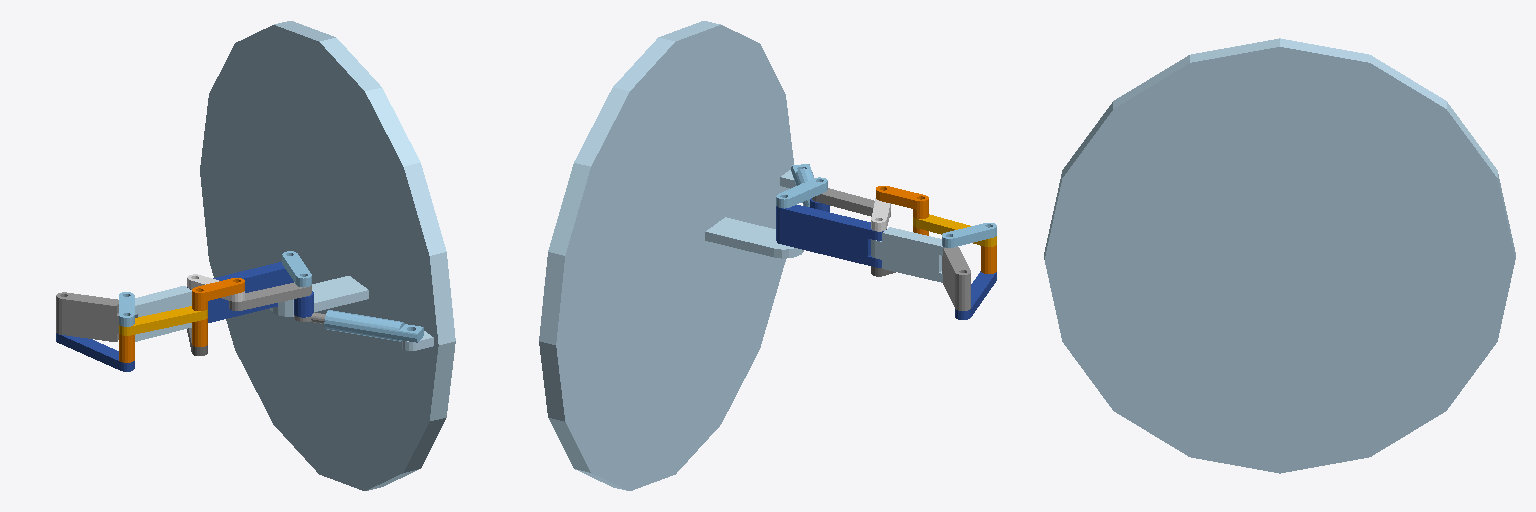
URDF robot description (assembly_2):
<!--URDF generated by ONSHAPE BY PTC INC, 1.212-->
<robot name="assembly_2">
    <link name="Part 1">
        <inertial>
            <mass value="7.2074e-07" />
            <origin xyz="3.46772e-19 0.0015875 0.0134123" rpy="0 -0 0" />
            <inertia ixx="5.7618e-11" ixy="0" ixz="0" iyy="5.79027e-11" iyz="0" izz="4.26698e-12" />
        </inertial>
        <visual>
            <origin xyz="2.1684e-19 0.0015875 -0.003175" rpy="0 -0 0" />
            <geometry>
                <mesh filename="meshes/75.stl" scale="1 1 1" />
            </geometry>
            <material name="0.615686_0.811765_0.929412_0.000000_0.000000">
                <texture />
                <color rgba="0.615686 0.811765 0.929412 1" />
            </material>
        </visual>
    </link>
    <link name="Part 10">
        <inertial>
            <mass value="1.37134e-06" />
            <origin xyz="-0.0113644 -3.46945e-18 -0.003175" rpy="0 -0 0" />
            <inertia ixx="2.02956e-11" ixy="0" ixz="0" iyy="7.4567e-11" iyz="0" izz="6.02994e-11" />
        </inertial>
        <visual>
            <origin xyz="0.0625709 0.0161285 -0.009525" rpy="0 -0 0" />
            <geometry>
                <mesh filename="meshes/114.stl" scale="1 1 1" />
            </geometry>
            <material name="0.647059_0.647059_0.647059_0.000000_0.000000">
                <texture />
                <color rgba="0.647059 0.647059 0.647059 1" />
            </material>
        </visual>
    </link>
    <link name="Part 11">
        <inertial>
            <mass value="5.01352e-07" />
            <origin xyz="0.0127843 0.00693573 0.0015875" rpy="0 -0 0" />
            <inertia ixx="1.08214e-11" ixy="0" ixz="0" iyy="3.31197e-11" iyz="0" izz="4.30987e-11" />
        </inertial>
        <visual>
            <origin xyz="0.0836005 0.0161285 0" rpy="0 -0 0" />
            <geometry>
                <mesh filename="meshes/118.stl" scale="1 1 1" />
            </geometry>
            <material name="0.231373_0.380392_0.705882_0.000000_0.000000">
                <texture />
                <color rgba="0.231373 0.380392 0.705882 1" />
            </material>
        </visual>
    </link>
    <link name="Part 13">
        <inertial>
            <mass value="0.000117271" />
            <origin xyz="-0.00339204 0.000372157 -2.03931e-06" rpy="0 -0 0" />
            <inertia ixx="3.37885e-07" ixy="0" ixz="0" iyy="1.69104e-07" iyz="0" izz="1.70696e-07" />
        </inertial>
        <visual>
            <origin xyz="-0.0297178 0.0415285 -0.0015875" rpy="0 -0 0" />
            <geometry>
                <mesh filename="meshes/67.stl" scale="1 1 1" />
            </geometry>
            <material name="0.768627_0.886275_0.952941_0.000000_0.000000">
                <texture />
                <color rgba="0.768627 0.886275 0.952941 1" />
            </material>
        </visual>
    </link>
    <link name="Part 14">
        <inertial>
            <mass value="1.44792e-07" />
            <origin xyz="-2.08167e-17 0 -0.0047625" rpy="0 -0 0" />
            <inertia ixx="1.38661e-12" ixy="0" ixz="0" iyy="1.38661e-12" iyz="0" izz="5.83836e-13" />
        </inertial>
        <visual>
            <origin xyz="0.0320173 0.000641214 0" rpy="0 -0 0" />
            <geometry>
                <mesh filename="meshes/59.stl" scale="1 1 1" />
            </geometry>
            <material name="0.972549_0.529412_0.003922_0.000000_0.000000">
                <texture />
                <color rgba="0.972549 0.529412 0.00392157 1" />
            </material>
        </visual>
    </link>
    <link name="Part 14_1">
        <inertial>
            <mass value="1.44792e-07" />
            <origin xyz="-2.08167e-17 0 0.0047625" rpy="0 -0 0" />
            <inertia ixx="1.38661e-12" ixy="0" ixz="0" iyy="1.38661e-12" iyz="0" izz="5.83836e-13" />
        </inertial>
        <visual>
            <origin xyz="0.0320173 0.000641214 0.009525" rpy="0 -0 0" />
            <geometry>
                <mesh filename="meshes/59.stl" scale="1 1 1" />
            </geometry>
            <material name="0.972549_0.529412_0.003922_0.000000_0.000000">
                <texture />
                <color rgba="0.972549 0.529412 0.00392157 1" />
            </material>
        </visual>
    </link>
    <link name="Part 1_1">
        <inertial>
            <mass value="2.94369e-07" />
            <origin xyz="0.00101609 0.00806424 -0.0015875" rpy="0 -0 0" />
            <inertia ixx="9.23311e-12" ixy="0" ixz="0" iyy="1.03422e-12" iyz="0" izz="9.77276e-12" />
        </inertial>
        <visual>
            <origin xyz="0.00203219 0.0161285 -0.003175" rpy="0 -0 0" />
            <geometry>
                <mesh filename="meshes/110.stl" scale="1 1 1" />
            </geometry>
            <material name="0.615686_0.811765_0.929412_0.000000_0.000000">
                <texture />
                <color rgba="0.615686 0.811765 0.929412 1" />
            </material>
        </visual>
    </link>
    <link name="Part 2">
        <inertial>
            <mass value="2.39969e-07" />
            <origin xyz="2.2187e-18 -2.46996e-20 0.0152573" rpy="0 -0 0" />
            <inertia ixx="1.91942e-11" ixy="0" ixz="0" iyy="1.93075e-11" iyz="0" izz="3.83009e-13" />
        </inertial>
        <visual>
            <origin xyz="0 -1.94413e-19 -0.03175" rpy="0 -0 0" />
            <geometry>
                <mesh filename="meshes/91.stl" scale="1 1 1" />
            </geometry>
            <material name="0.647059_0.647059_0.647059_0.000000_0.000000">
                <texture />
                <color rgba="0.647059 0.647059 0.647059 1" />
            </material>
        </visual>
    </link>
    <link name="Part 2_1">
        <inertial>
            <mass value="4.21116e-07" />
            <origin xyz="0.0109792 0.00498325 0.0015875" rpy="0 -0 0" />
            <inertia ixx="5.4424e-12" ixy="0" ixz="0" iyy="2.14811e-11" iyz="0" izz="2.6216e-11" />
        </inertial>
        <visual>
            <origin xyz="0.0219584 0.0099665 0" rpy="0 -0 0" />
            <geometry>
                <mesh filename="meshes/106.stl" scale="1 1 1" />
            </geometry>
            <material name="0.647059_0.647059_0.647059_0.000000_0.000000">
                <texture />
                <color rgba="0.647059 0.647059 0.647059 1" />
            </material>
        </visual>
    </link>
    <link name="Part 3">
        <inertial>
            <mass value="2.26781e-06" />
            <origin xyz="-0.0165991 2.08167e-17 -0.00635" rpy="0 -0 0" />
            <inertia ixx="3.65735e-11" ixy="0" ixz="0" iyy="2.74421e-10" iyz="0" izz="2.47732e-10" />
        </inertial>
        <visual>
            <origin xyz="0.00203219 0.0161285 -0.0127" rpy="0 -0 0" />
            <geometry>
                <mesh filename="meshes/79.stl" scale="1 1 1" />
            </geometry>
            <material name="0.231373_0.380392_0.705882_0.000000_0.000000">
                <texture />
                <color rgba="0.231373 0.380392 0.705882 1" />
            </material>
        </visual>
    </link>
    <link name="Part 3_1">
        <inertial>
            <mass value="1.69678e-07" />
            <origin xyz="-1.66573e-19 0.00357187 -1.38778e-17" rpy="0 -0 0" />
            <inertia ixx="1.25612e-12" ixy="0" ixz="0" iyy="1.06904e-12" iyz="0" izz="1.25612e-12" />
        </inertial>
        <visual>
            <origin xyz="-4.11997e-18 0.0079375 -0.060325" rpy="0 -0 0" />
            <geometry>
                <mesh filename="meshes/95.stl" scale="1 1 1" />
            </geometry>
            <material name="0.231373_0.380392_0.705882_0.000000_0.000000">
                <texture />
                <color rgba="0.231373 0.380392 0.705882 1" />
            </material>
        </visual>
    </link>
    <link name="Part 4">
        <inertial>
            <mass value="2.93711e-07" />
            <origin xyz="0.00749939 0.00308099 -0.0015875" rpy="0 -0 0" />
            <inertia ixx="2.11418e-12" ixy="0" ixz="0" iyy="8.09381e-12" iyz="0" izz="9.71452e-12" />
        </inertial>
        <visual>
            <origin xyz="0.0369572 0.0161285 -0.003175" rpy="0 -0 0" />
            <geometry>
                <mesh filename="meshes/87.stl" scale="1 1 1" />
            </geometry>
            <material name="0.917647_0.917647_0.917647_0.000000_0.000000">
                <texture />
                <color rgba="0.917647 0.917647 0.917647 1" />
            </material>
        </visual>
    </link>
    <link name="Part 5">
        <inertial>
            <mass value="1.55298e-06" />
            <origin xyz="-0.0128069 1.38778e-17 -0.003175" rpy="0 -0 0" />
            <inertia ixx="2.42563e-11" ixy="0" ixz="0" iyy="1.03609e-10" iyz="0" izz="8.6119e-11" />
        </inertial>
        <visual>
            <origin xyz="0.0369572 0.0161285 -0.009525" rpy="0 -0 0" />
            <geometry>
                <mesh filename="meshes/71.stl" scale="1 1 1" />
            </geometry>
            <material name="0.768627_0.886275_0.952941_0.000000_0.000000">
                <texture />
                <color rgba="0.768627 0.886275 0.952941 1" />
            </material>
        </visual>
    </link>
    <link name="Part 6">
        <inertial>
            <mass value="3.01674e-07" />
            <origin xyz="-0.00583411 0.00540861 -0.00107954" rpy="0 -0 0" />
            <inertia ixx="4.73005e-12" ixy="0" ixz="0" iyy="5.28672e-12" iyz="0" izz="8.69255e-12" />
        </inertial>
        <visual>
            <origin xyz="0.0219584 0.0099665 -0.003175" rpy="0 -0 0" />
            <geometry>
                <mesh filename="meshes/63.stl" scale="1 1 1" />
            </geometry>
            <material name="0.972549_0.529412_0.003922_0.000000_0.000000">
                <texture />
                <color rgba="0.972549 0.529412 0.00392157 1" />
            </material>
        </visual>
    </link>
    <link name="Part 7">
        <inertial>
            <mass value="2.94369e-07" />
            <origin xyz="0.00246993 0.00774363 0.0015875" rpy="0 -0 0" />
            <inertia ixx="8.58384e-12" ixy="0" ixz="0" iyy="1.68349e-12" iyz="0" izz="9.77276e-12" />
        </inertial>
        <visual>
            <origin xyz="0.0369572 0.0161285 0" rpy="0 -0 0" />
            <geometry>
                <mesh filename="meshes/83.stl" scale="1 1 1" />
            </geometry>
            <material name="0.498039_0.498039_0.498039_0.000000_0.000000">
                <texture />
                <color rgba="0.498039 0.498039 0.498039 1" />
            </material>
        </visual>
    </link>
    <link name="Part 8">
        <inertial>
            <mass value="4.52574e-07" />
            <origin xyz="-0.0130073 -0.000807897 -0.0015875" rpy="0 -0 0" />
            <inertia ixx="1.49102e-12" ixy="0" ixz="0" iyy="3.14286e-11" iyz="0" izz="3.21592e-11" />
        </inertial>
        <visual>
            <origin xyz="0.0320173 0.000641214 -0.003175" rpy="0 -0 0" />
            <geometry>
                <mesh filename="meshes/122.stl" scale="1 1 1" />
            </geometry>
            <material name="0.980392_0.713725_0.003922_0.000000_0.000000">
                <texture />
                <color rgba="0.980392 0.713726 0.00392157 1" />
            </material>
        </visual>
    </link>
    <link name="Part 9">
        <inertial>
            <mass value="2.67582e-07" />
            <origin xyz="-0.0022695 -0.00693573 -0.0015875" rpy="0 -0 0" />
            <inertia ixx="6.60163e-12" ixy="0" ixz="0" iyy="1.4407e-12" iyz="0" izz="7.59277e-12" />
        </inertial>
        <visual>
            <origin xyz="0.0580319 0.00225701 -0.003175" rpy="0 -0 0" />
            <geometry>
                <mesh filename="meshes/102.stl" scale="1 1 1" />
            </geometry>
            <material name="0.615686_0.811765_0.929412_0.000000_0.000000">
                <texture />
                <color rgba="0.615686 0.811765 0.929412 1" />
            </material>
        </visual>
    </link>
    <link name="root" />
    <joint name="Fastened 1_0" type="fixed">
        <origin xyz="0 0 -8.67362e-19" rpy="-3.14159 3.57453e-30 -9.36772e-31" />
        <axis xyz="1 0 0" />
        <parent link="root" />
        <child link="Part 13" />
    </joint>
    <joint name="Fastened 2_0" type="fixed">
        <origin xyz="0 -6.93889e-18 0.009525" rpy="3.14159 -2.73907e-16 4.09004e-15" />
        <axis xyz="0 0 1" />
        <parent link="Part 14_1" />
        <child link="Part 8" />
    </joint>
    <joint name="Fastened 3_0" type="fixed">
        <origin xyz="-0.0260146 -0.00161579 -1.73472e-18" rpy="-3.14159 -2.73907e-16 4.29561e-15" />
        <axis xyz="0 0 1" />
        <parent link="Part 8" />
        <child link="Part 14" />
    </joint>
    <joint name="Revolute 10_0" type="continuous">
        <origin xyz="-0.0210296 4.16334e-16 0.003175" rpy="-1.67606e-17 -7.87781e-17 -5.32074e-14" />
        <axis xyz="0 0 -1" />
        <parent link="Part 10" />
        <child link="Part 11" />
    </joint>
    <joint name="Revolute 12_0" type="continuous">
        <origin xyz="0.00493986 0.0154873 0" rpy="-3.14159 3.63272e-16 -0.750377" />
        <axis xyz="0 0 -1" />
        <parent link="Part 7" />
        <child link="Part 14_1" />
    </joint>
    <joint name="Revolute 13_0" type="continuous">
        <origin xyz="-0.0256137 5.55112e-17 -0.009525" rpy="-4.2414e-23 1.04324e-22 -2.2789" />
        <axis xyz="0 0 1" />
        <parent link="Part 5" />
        <child link="Part 9" />
    </joint>
    <joint name="Revolute 15_0" type="continuous">
        <origin xyz="-0.03175 0.0254 -0.0015875" rpy="3.60892e-16 -2.25797e-16 -9.90616e-16" />
        <axis xyz="0 0 1" />
        <parent link="Part 13" />
        <child link="Part 3" />
    </joint>
    <joint name="Revolute 16_0" type="continuous">
        <origin xyz="-0.0127 0.06985 -0.0015875" rpy="-1.5708 -3.10862e-15 2.46516" />
        <axis xyz="0 -1 0" />
        <parent link="Part 13" />
        <child link="Part 1" />
    </joint>
    <joint name="Revolute 18_0" type="continuous">
        <origin xyz="1.29063e-15 0.00079375 0.028575" rpy="3.14159 0.294549 -3.14159" />
        <axis xyz="0 -1 0" />
        <parent link="Part 2" />
        <child link="Part 3_1" />
    </joint>
    <joint name="Revolute 1_0" type="continuous">
        <origin xyz="-2.28983e-16 1.73472e-16 -0.0127" rpy="5.84406e-15 -3.71378e-15 0.372725" />
        <axis xyz="0 0 1" />
        <parent link="Part 3" />
        <child link="Part 1_1" />
    </joint>
    <joint name="Revolute 3_0" type="continuous">
        <origin xyz="-0.034925 -2.70617e-16 -0.003175" rpy="-2.05995e-19 3.7473e-18 -0.0242397" />
        <axis xyz="0 0 1" />
        <parent link="Part 3" />
        <child link="Part 5" />
    </joint>
    <joint name="Revolute 4_0" type="continuous">
        <origin xyz="0.0149988 0.00616197 -1.2837e-16" rpy="2.06304e-18 1.24697e-17 -1.12648" />
        <axis xyz="0 0 1" />
        <parent link="Part 4" />
        <child link="Part 2_1" />
    </joint>
    <joint name="Revolute 5_0" type="continuous">
        <origin xyz="0.0149988 0.00616197 -0.003175" rpy="9.05192e-18 3.65436e-17 1.46466e-13" />
        <axis xyz="0 0 1" />
        <parent link="Part 4" />
        <child link="Part 6" />
    </joint>
    <joint name="Revolute 6_0" type="continuous">
        <origin xyz="-0.034925 -1.94289e-16 -0.0127" rpy="4.09602e-15 -5.58166e-15 0.744605" />
        <axis xyz="0 0 -1" />
        <parent link="Part 3" />
        <child link="Part 4" />
    </joint>
    <joint name="Revolute 7_0" type="continuous">
        <origin xyz="-0.0256137 -1.76942e-16 -2.60209e-18" rpy="-3.46599e-16 -3.03937e-16 0.862696" />
        <axis xyz="0 0 -1" />
        <parent link="Part 5" />
        <child link="Part 10" />
    </joint>
    <joint name="Revolute 8_0" type="continuous">
        <origin xyz="-0.034925 -2.5327e-16 -3.68629e-18" rpy="-3.84651e-16 -4.17259e-16 0.744605" />
        <axis xyz="0 0 -1" />
        <parent link="Part 3" />
        <child link="Part 7" />
    </joint>
    <joint name="Slider 1_0" type="prismatic">
        <origin xyz="1.02696e-15 0.0015875 0.00821442" rpy="-4.87407e-17 -1.55431e-15 2.68643e-16" />
        <axis xyz="0 0 -1" />
        <parent link="Part 1" />
        <child link="Part 2" />
        <limit effort="1" velocity="1" lower="-10000" upper="10000" />
    </joint>
</robot>

--- Facts derived from the render (not from the file) ---
The picture shows the robot from 3 angles, left to right: view 1: azimuth 30°, elevation 25°; view 2: azimuth 150°, elevation 25°; view 3: azimuth 270°, elevation 25°; orthographic projection.
Robot: assembly_2 — 18 links, 17 joints (13 continuous, 1 prismatic, 3 fixed); root link root; default pose: every joint at zero.
Links seen in each view (by area): view 1: Part 13, Part 10, Part 1, Part 3, Part 5, Part 8, Part 2_1, Part 11, Part 6, Part 1_1, Part 9; view 2: Part 13, Part 3, Part 5, Part 10, Part 6, Part 2_1, Part 1_1, Part 9, Part 8, Part 11; view 3: Part 13.
Link boxes in pixels (box(x1,y1,x2,y2)): Part 13: box(200, 21, 455, 490); Part 10: box(56, 292, 118, 341); Part 1: box(324, 310, 423, 342); Part 3: box(187, 262, 293, 322); Part 5: box(135, 286, 191, 341); Part 8: box(119, 306, 207, 335); Part 2_1: box(229, 282, 311, 310); Part 11: box(56, 333, 134, 371); Part 6: box(192, 278, 244, 310); Part 1_1: box(282, 251, 311, 287); Part 9: box(119, 292, 134, 326); Part 13: box(539, 21, 803, 490); Part 3: box(776, 205, 886, 267); Part 5: box(871, 227, 954, 282); Part 10: box(942, 247, 970, 310); Part 6: box(876, 186, 928, 218); Part 2_1: box(812, 188, 890, 217); Part 1_1: box(776, 177, 827, 208); Part 9: box(942, 223, 996, 247); Part 8: box(913, 214, 996, 246); Part 11: box(955, 271, 996, 319); Part 13: box(1044, 38, 1515, 473).
Size in the robot's own frame: 0.1089 by 0.1524 by 0.1524 metres.
Meshes: 16 distinct files referenced, 17 mesh visuals loaded (16 binary STL).
